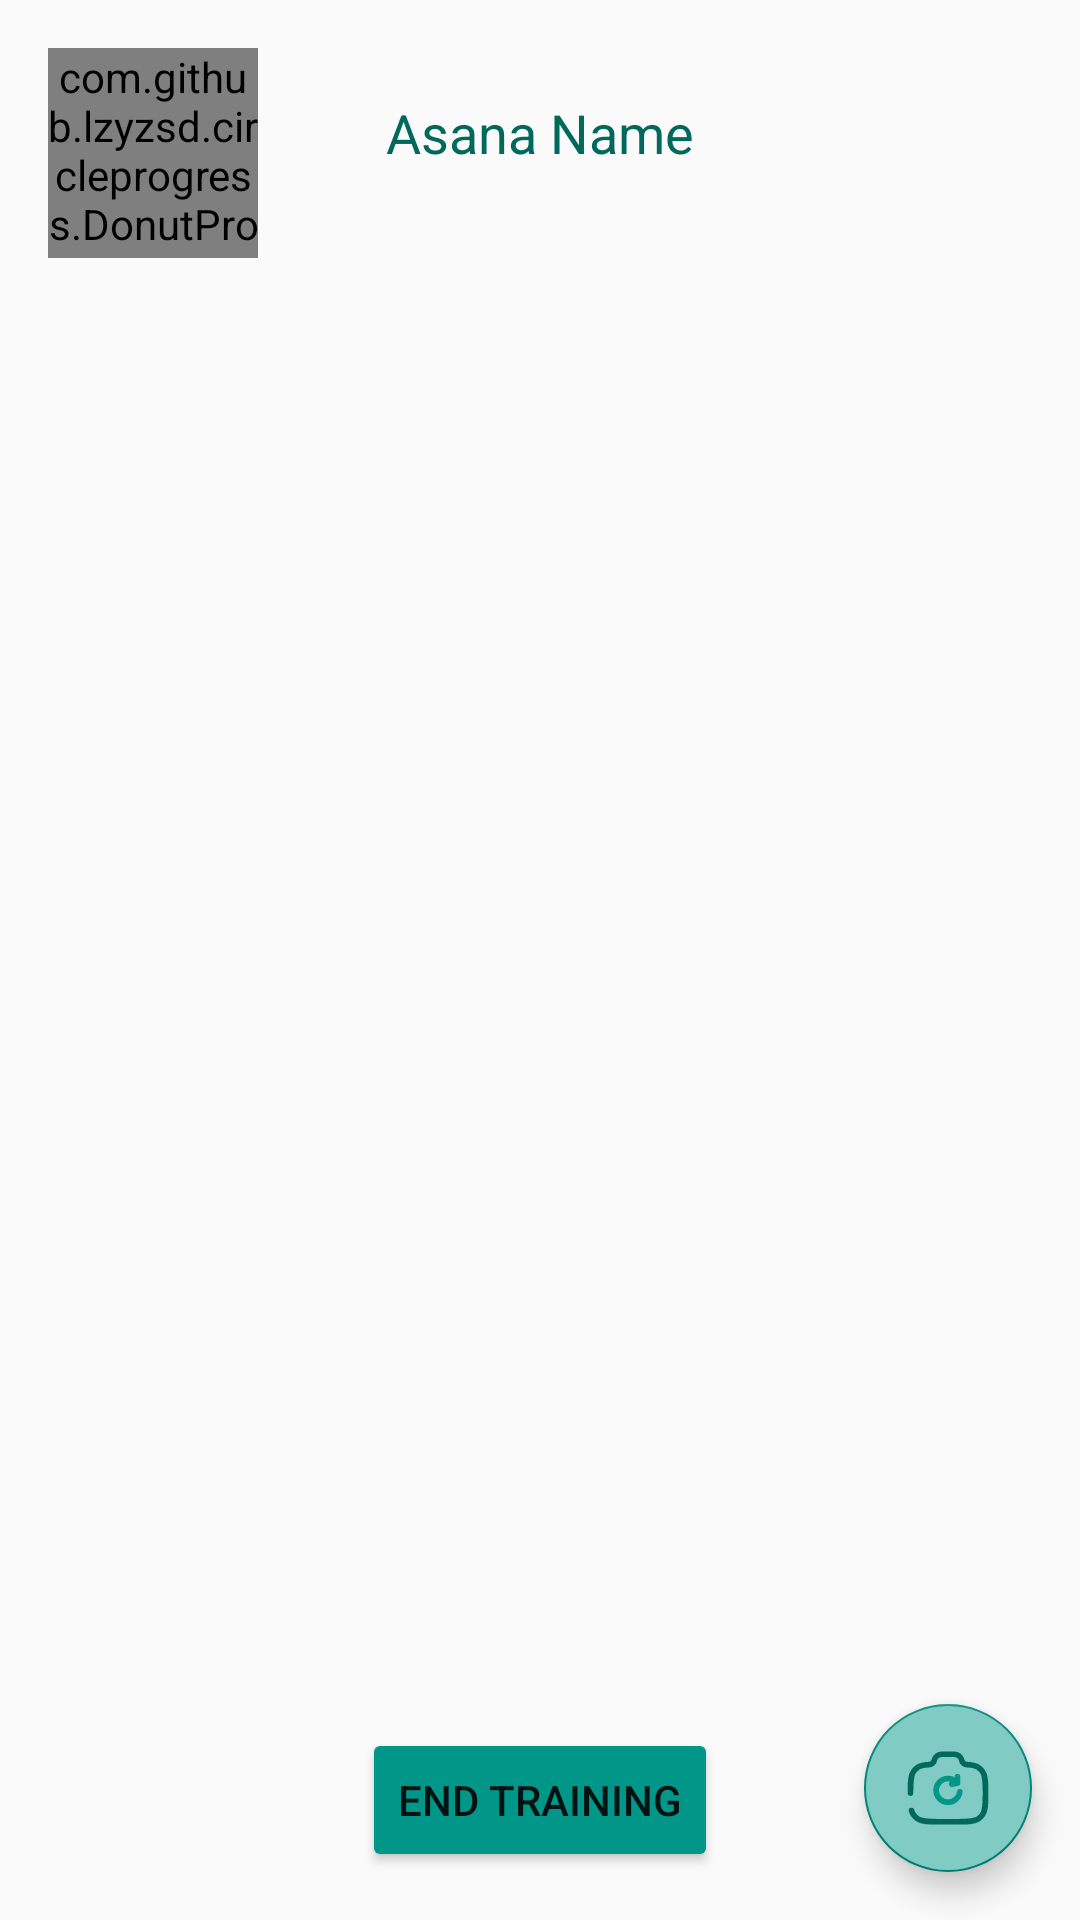

Screen size 1080×1920. Icon name, then its center in pixels as (x=x, y=y):
camera rotate: (x=948, y=1788)
